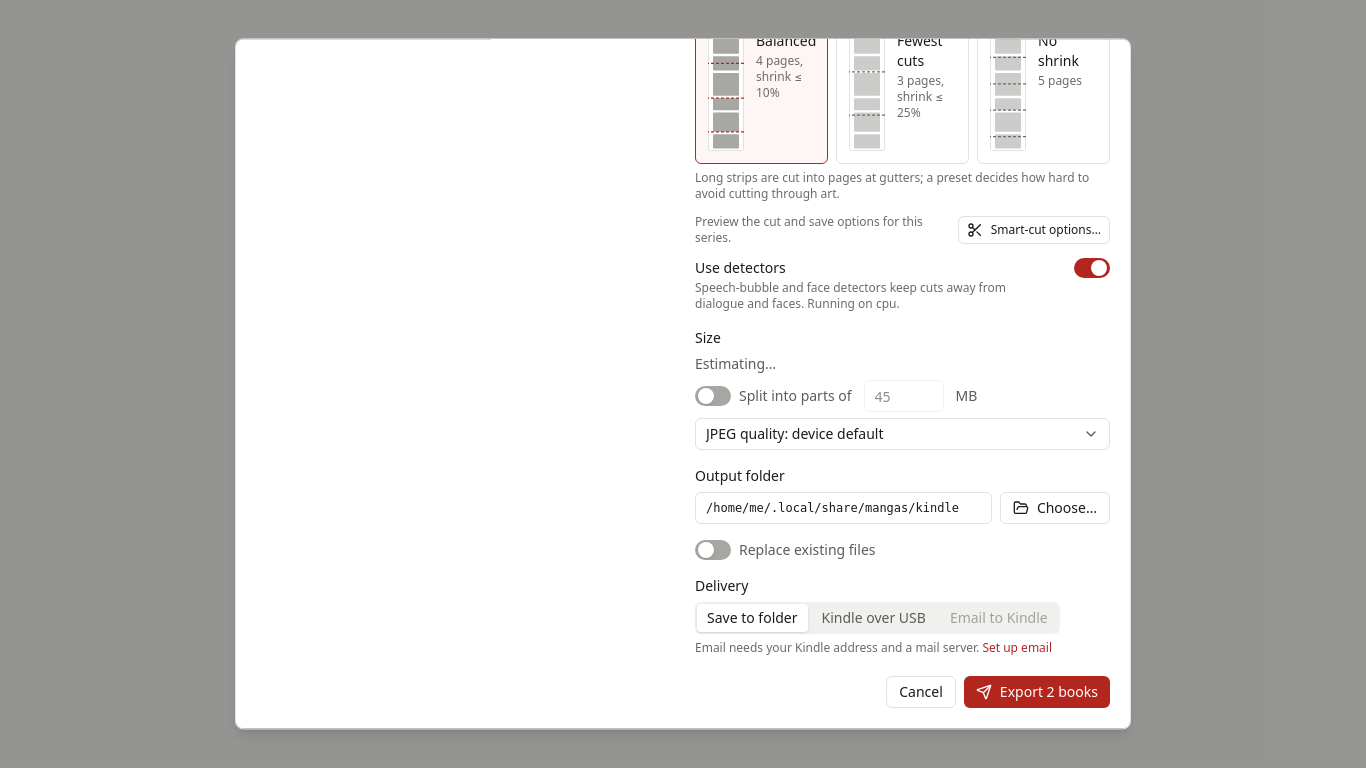
export dialog: what it shows before and after writing › clears the last result when the cut preset changes
(page scrolled)
What coordinates should you click on to do the following:
click the button "Export 2 books"
I would click on:
 (1037, 692)
Its box is [964,676,1110,708].
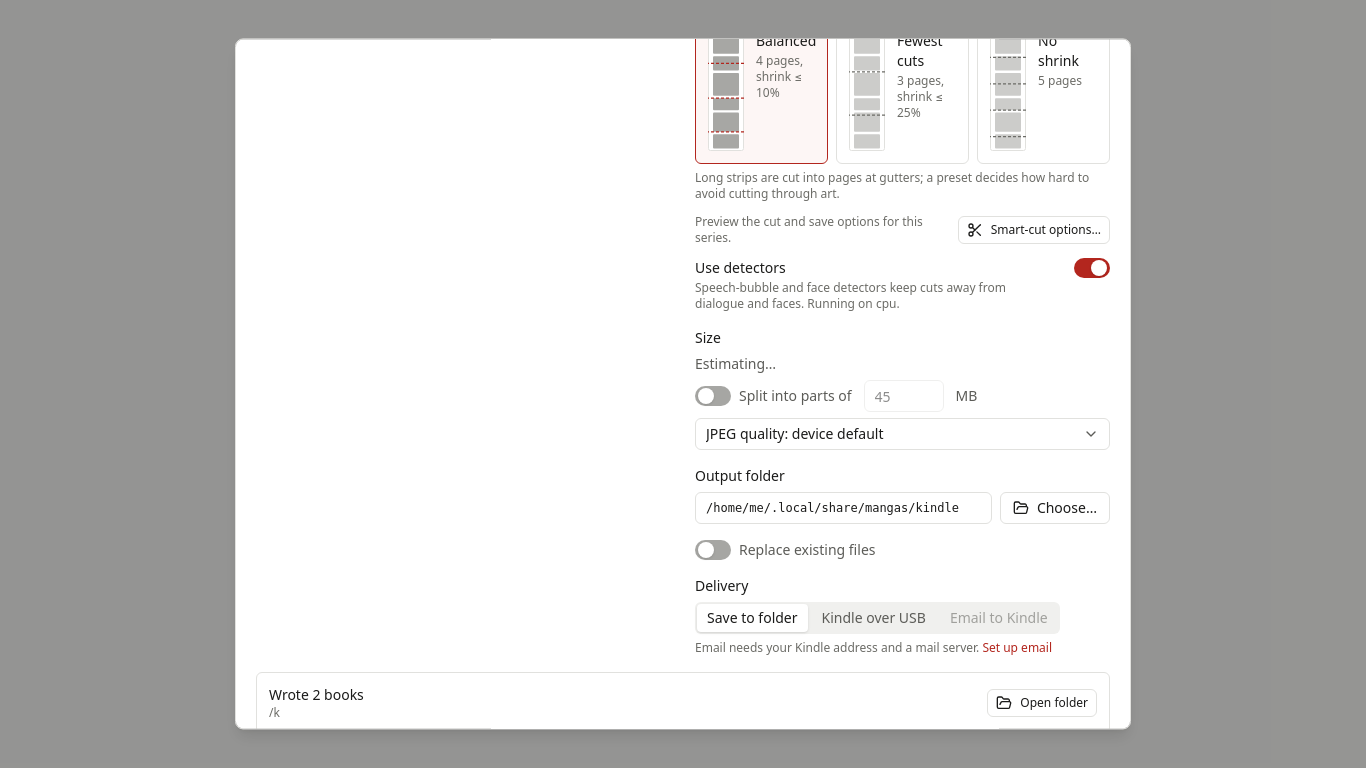
Expected: the text "Wrote 2 books" is shown, [269,685,364,705]
What coordinates should you click on to do the following:
click the text "Fewest cuts"
I would click on:
 (920, 51)
Its box is [897,31,942,70].
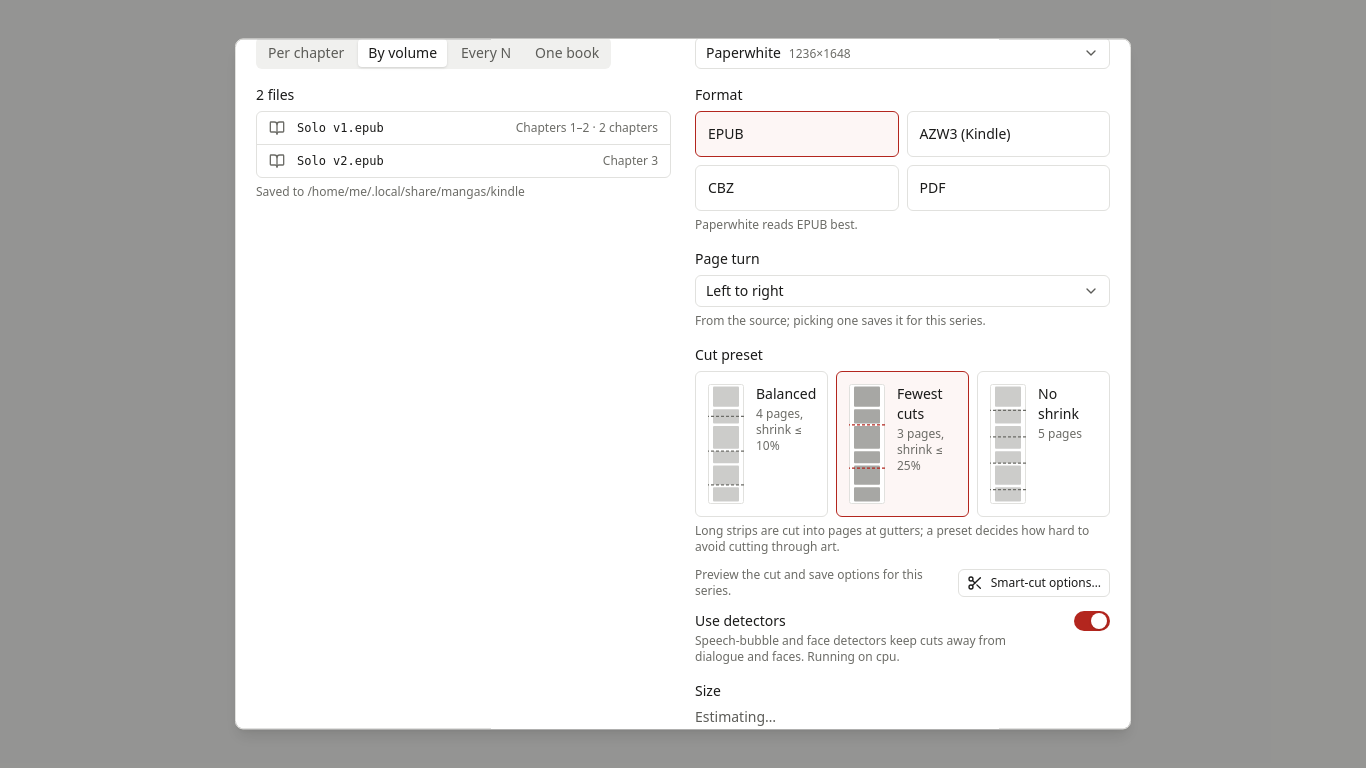
Expected: the text "Wrote 2 books" is gone
